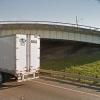Bridge: (3, 10, 100, 76)
